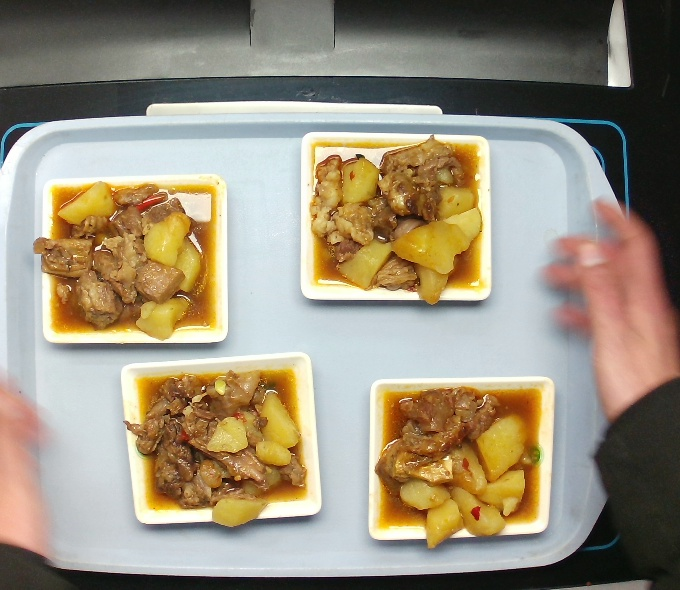wcq-TuDouNiuNan: (300, 127, 488, 312), (118, 362, 310, 532), (28, 176, 213, 344), (374, 380, 544, 552)
